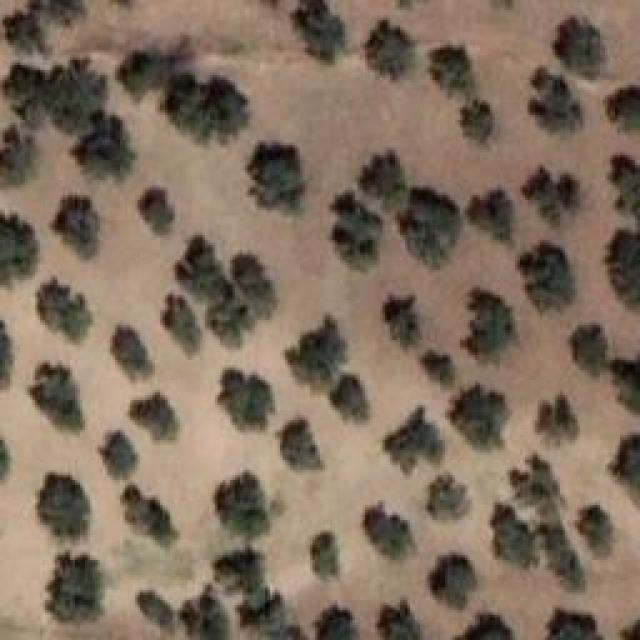Tree: (163, 73, 249, 144), (398, 187, 461, 267), (285, 315, 348, 388), (48, 60, 108, 135), (330, 193, 385, 273), (3, 0, 84, 52), (385, 408, 445, 476), (517, 242, 575, 312), (448, 385, 509, 451), (463, 288, 518, 360), (248, 143, 307, 210), (215, 472, 271, 542), (175, 235, 234, 301), (48, 555, 104, 623), (38, 277, 93, 342), (218, 370, 274, 431), (530, 68, 584, 131), (522, 168, 580, 226), (30, 363, 79, 431), (38, 472, 89, 537), (73, 133, 140, 181), (125, 485, 178, 545), (295, 0, 346, 62), (0, 60, 49, 124), (553, 18, 604, 79), (510, 455, 564, 512), (240, 592, 305, 639), (52, 195, 100, 258), (365, 20, 414, 81), (540, 525, 585, 591), (118, 50, 174, 101), (208, 550, 267, 598), (495, 502, 538, 567), (0, 213, 39, 284), (363, 504, 414, 558), (605, 230, 640, 308), (180, 585, 229, 640), (430, 553, 478, 609), (163, 295, 203, 356), (360, 150, 406, 200), (113, 325, 154, 380), (433, 48, 477, 98), (205, 293, 249, 342), (0, 125, 35, 186), (470, 188, 510, 241), (130, 398, 178, 442), (280, 418, 320, 469), (538, 395, 581, 442), (570, 325, 608, 378), (428, 475, 471, 521), (385, 295, 421, 348), (330, 375, 369, 423), (100, 430, 139, 478), (578, 505, 614, 556), (547, 610, 605, 640), (610, 435, 640, 492), (605, 85, 640, 131), (140, 188, 175, 234), (383, 600, 423, 640), (455, 613, 514, 640), (315, 605, 358, 640), (460, 100, 494, 143), (615, 357, 640, 415), (310, 533, 339, 580), (423, 350, 453, 387), (140, 593, 170, 630), (610, 155, 640, 185)
